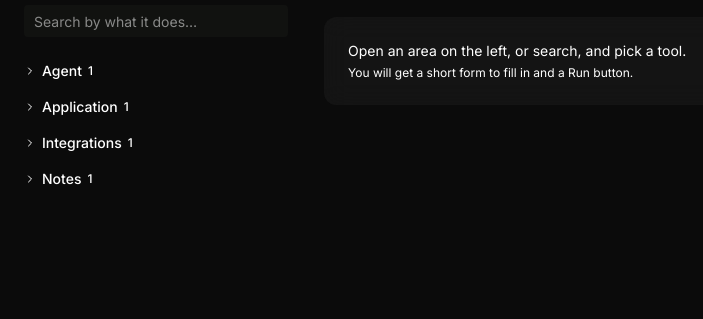
ToolCatalogPanel › shows areas folded and rows as plain titles, without machine names
Click the button "notes 1" at (62,178), box [12,161,300,197]
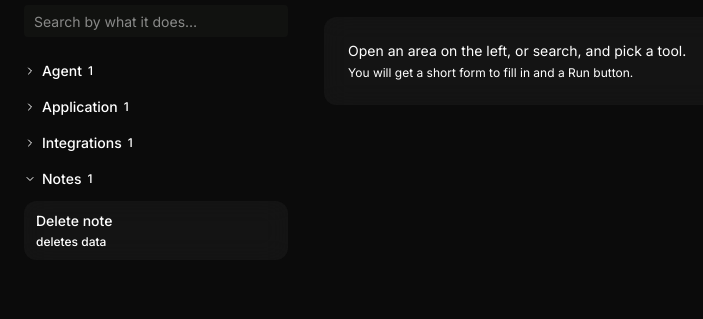
expect the text "Delete note" is shown: met, box [36,212,112,229]
expect the text "deletes data" is shown: met, box [36,234,106,250]
Click the button "agent 1" at (62,70), box [12,53,300,89]
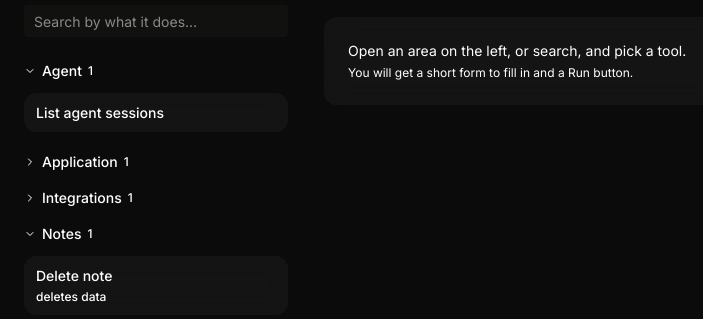
expect the text "List agent sessions" is shown: met, box [36,104,164,121]
